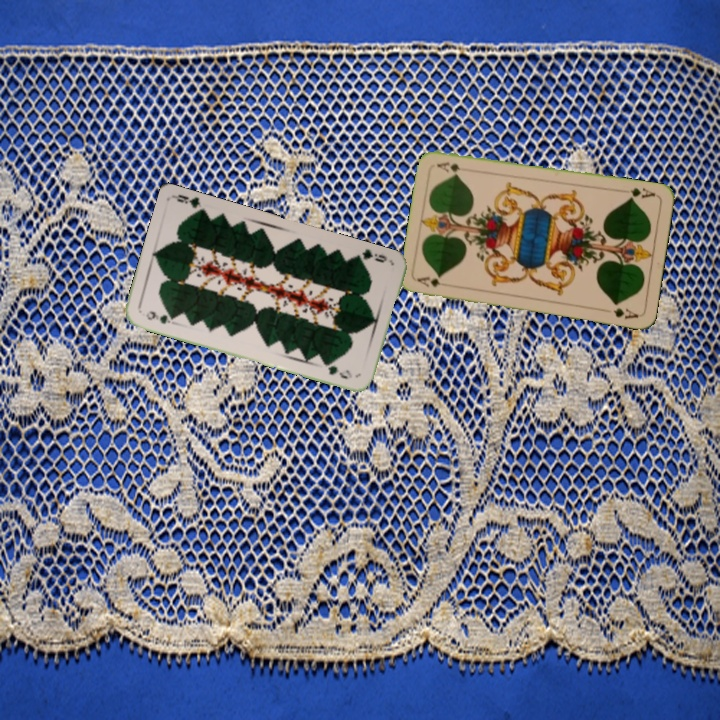G9: (351, 245, 389, 265), (142, 307, 178, 327)
GA: (413, 272, 454, 289), (625, 183, 658, 202)
